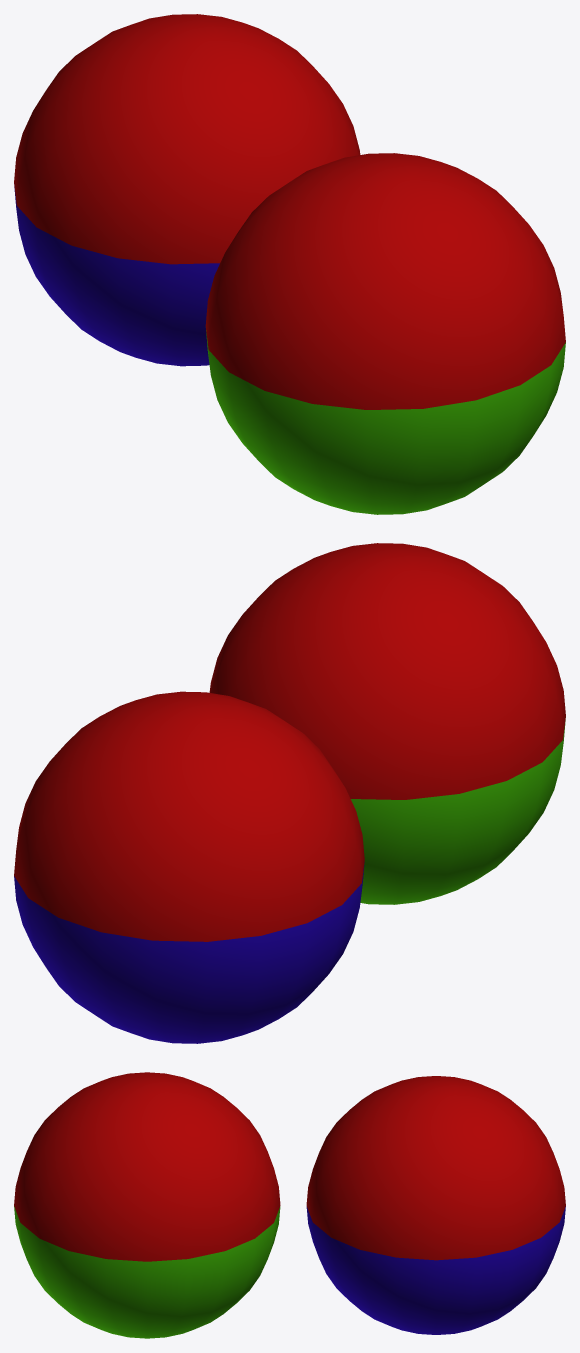
The picture shows the model from 3 angles, top to bottom: view 1: azimuth 30°, elevation 25°; view 2: azimuth 150°, elevation 25°; view 3: azimuth 270°, elevation 25°; orthographic projection. The views are drawn at different scales.
Visible parts, largest first — view 1: pSphere1, pSphere2; view 2: pSphere2, pSphere1; view 3: pSphere1, pSphere2.
Boxes of the visible parts, x1=… form: pSphere1: x1=205, y1=153, x2=565, y2=514; pSphere2: x1=14, y1=14, x2=360, y2=366; pSphere2: x1=14, y1=691, x2=364, y2=1043; pSphere1: x1=209, y1=543, x2=565, y2=904; pSphere1: x1=14, y1=1072, x2=280, y2=1338; pSphere2: x1=306, y1=1076, x2=565, y2=1334.
Size of the model in its own units: 11 by 11 by 22.77.
